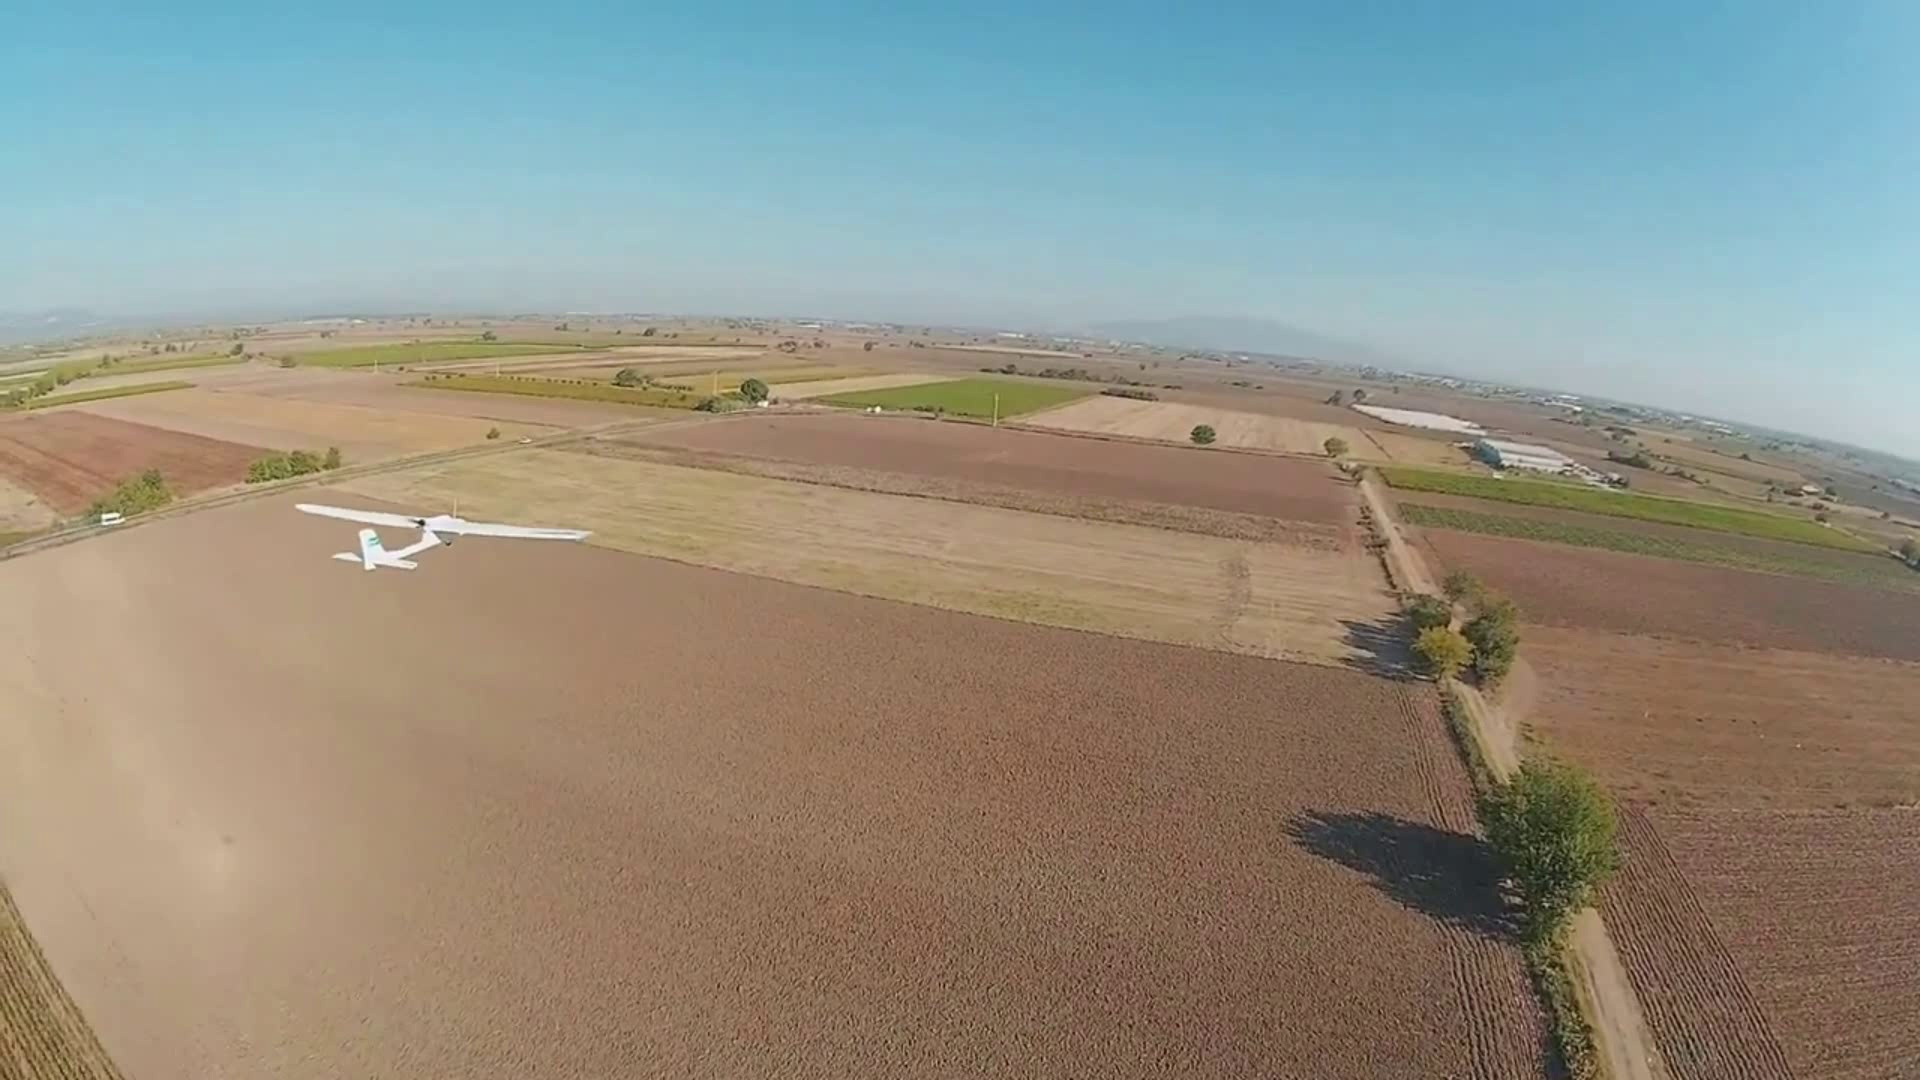airplane: (294, 505, 593, 568)
